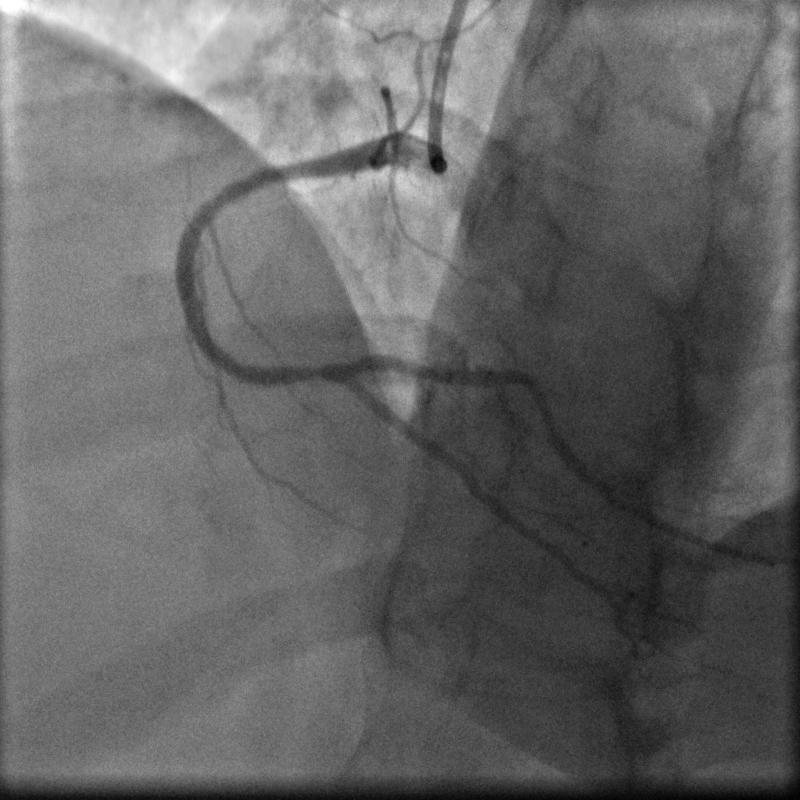Stenosis: (291, 357, 332, 387)
